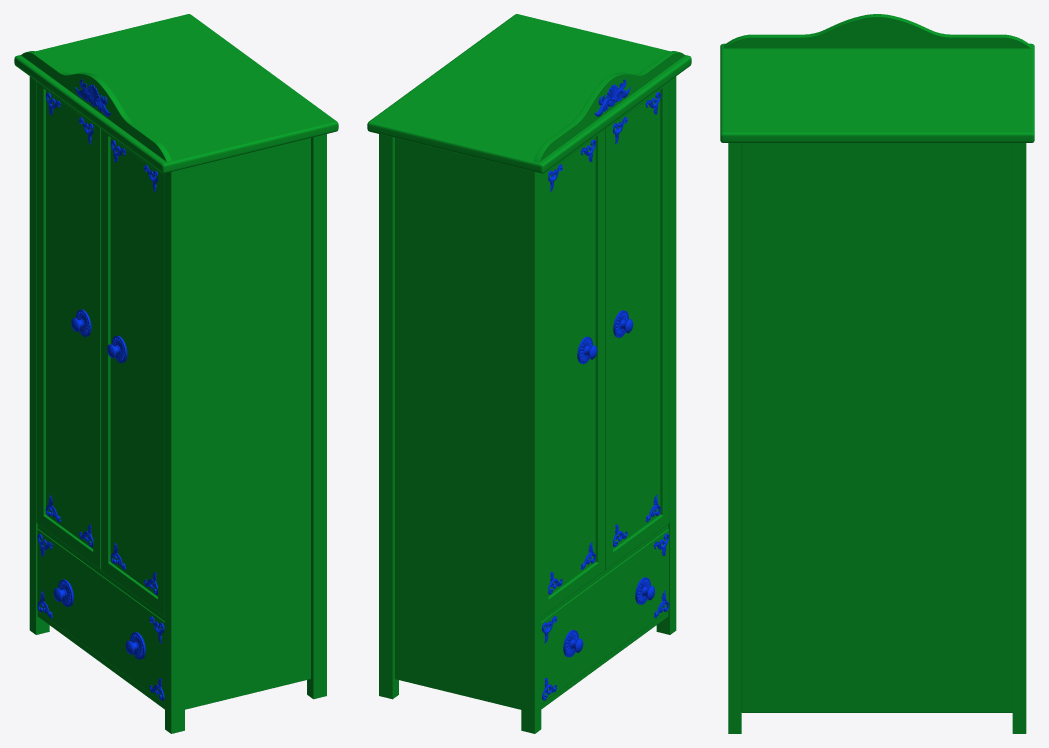
Rendered from OldWardrobe.fbx.
The picture shows the model from 3 angles, left to right: view 1: azimuth 30°, elevation 25°; view 2: azimuth 150°, elevation 25°; view 3: azimuth 270°, elevation 25°; orthographic projection. The views are drawn at different scales.
Parts seen in each view (by area): view 1: OldSzafa_hull, door_1, dorr_2, OldSzafa_Ornaments, OldSzafa_Ornaments.001, OldSzafa_Ornaments.002; view 2: OldSzafa_hull, door_1, dorr_2, OldSzafa_Ornaments, OldSzafa_Ornaments.001, OldSzafa_Ornaments.002; view 3: OldSzafa_hull.
Part boxes in pixels (bbox=[...]): OldSzafa_hull: bbox=[14, 14, 338, 733]; door_1: bbox=[36, 81, 100, 569]; dorr_2: bbox=[101, 128, 164, 616]; OldSzafa_Ornaments: bbox=[37, 79, 164, 700]; OldSzafa_Ornaments.001: bbox=[45, 92, 93, 547]; OldSzafa_Ornaments.002: bbox=[107, 140, 157, 594]; OldSzafa_hull: bbox=[367, 14, 691, 733]; door_1: bbox=[541, 128, 605, 616]; dorr_2: bbox=[605, 81, 669, 569]; OldSzafa_Ornaments: bbox=[542, 79, 669, 700]; OldSzafa_Ornaments.001: bbox=[548, 139, 597, 594]; OldSzafa_Ornaments.002: bbox=[613, 92, 660, 546]; OldSzafa_hull: bbox=[720, 14, 1034, 733].
Size of the model in its own units: 64.14 by 210 by 94.01.
